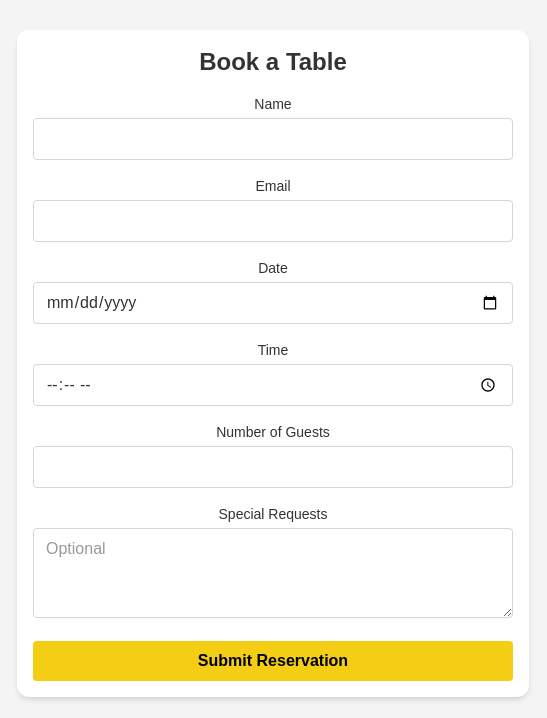
Test: BookingForm › shows error for guests out of range
Step 1. Type "0" into the number field labelled "Number of Guests" → (273, 467), box [33,446,513,488]
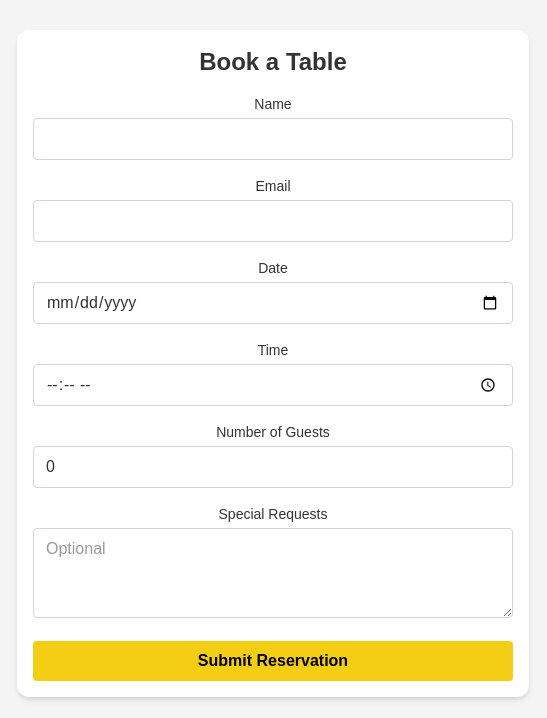
Step 2. Click the button "Submit Reservation" → (273, 661), box [33,641,513,681]
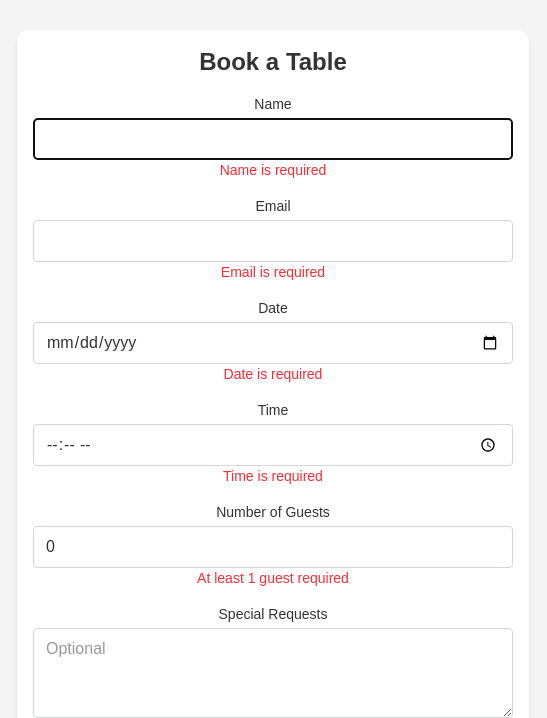
Expected: the text "At least 1 guest required" is shown, [197,570,349,586]
Step 3. Replace the text in the number field labelled "Number of Guests" with "21" → (273, 547), box [33,526,513,568]
(page scrolled)
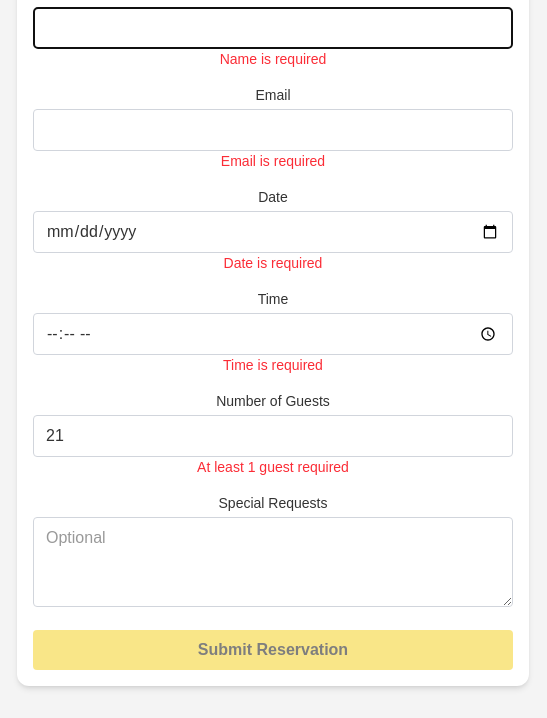
Step 4. Click the button "Submit Reservation" → (273, 650), box [33,630,513,670]
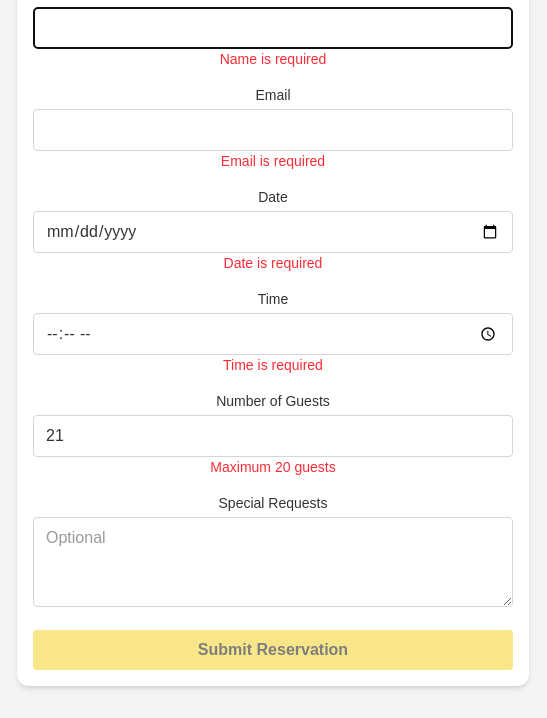
Expected: the text "Maximum 20 guests" is shown, [210,459,336,475]
